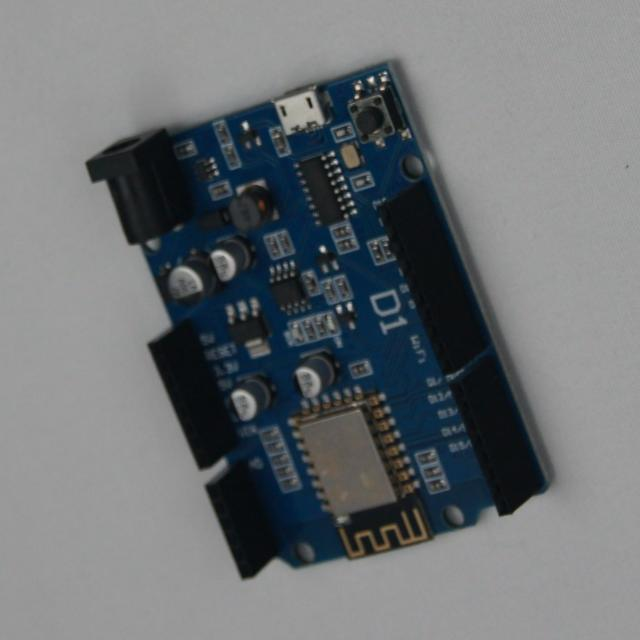Arduino Uno WiFi Shield: (88, 63, 548, 579)
